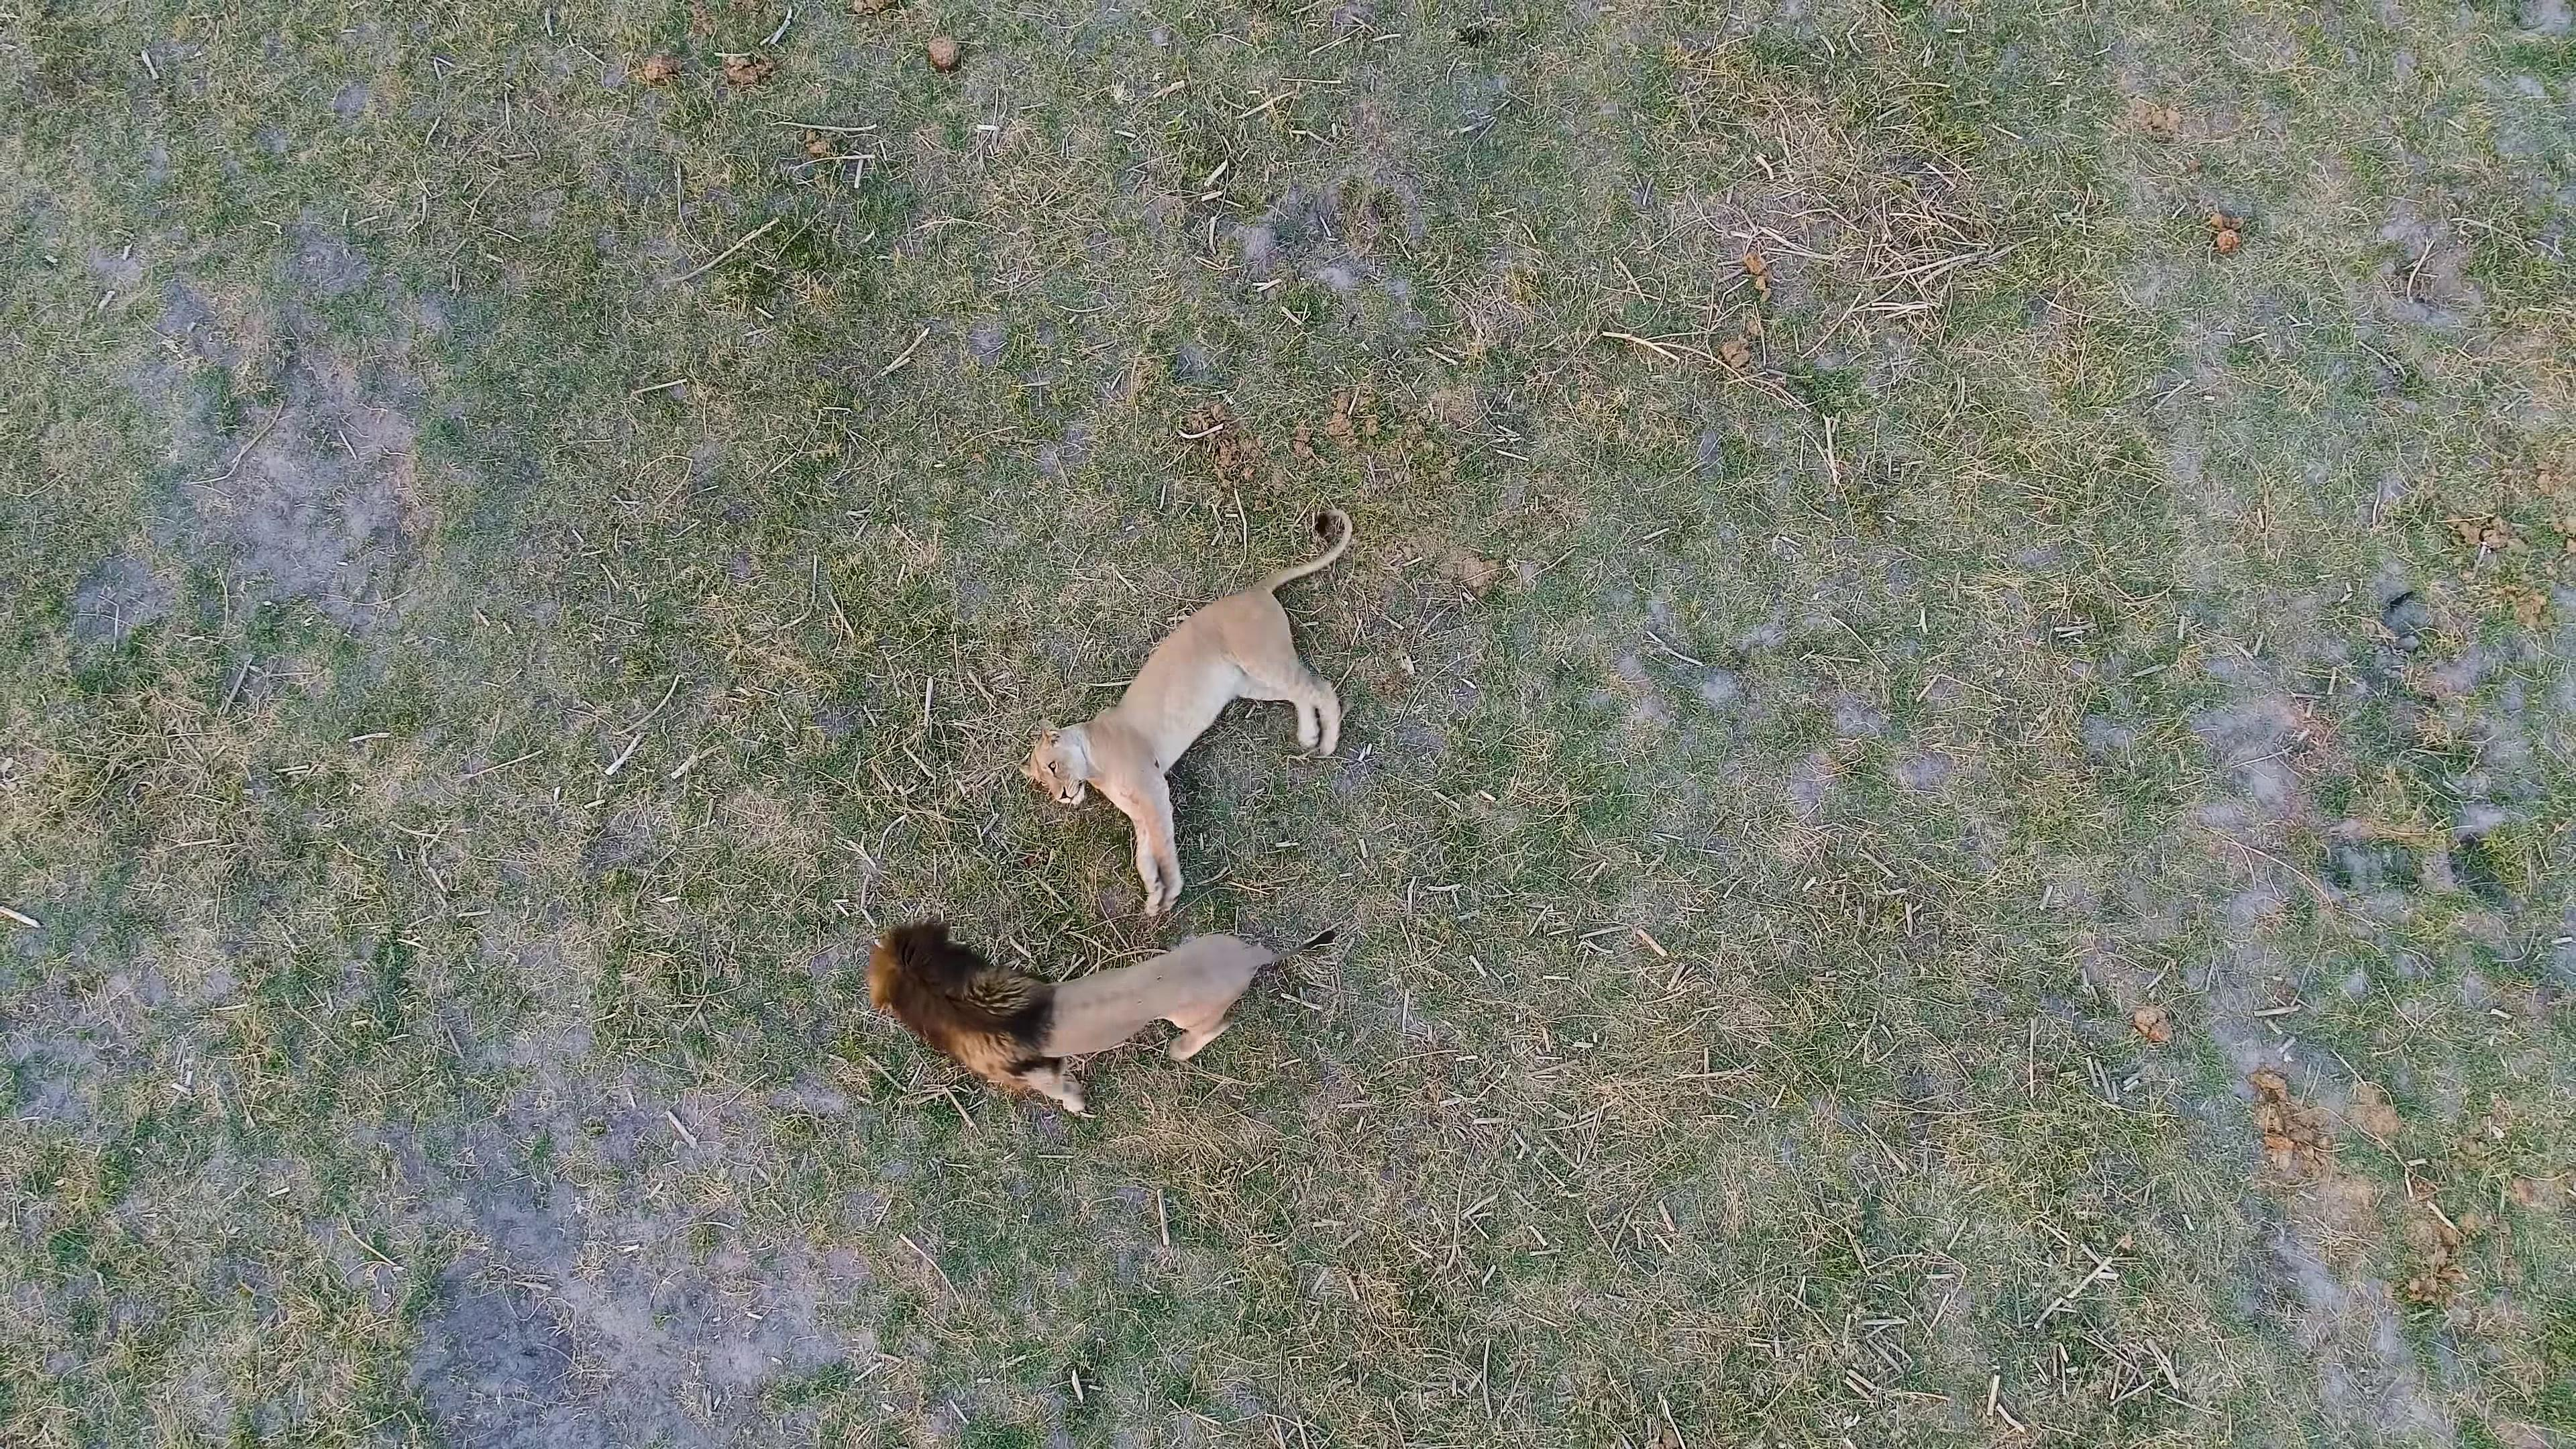lion: (812, 897, 1306, 1143)
lioness: (984, 524, 1369, 909)
